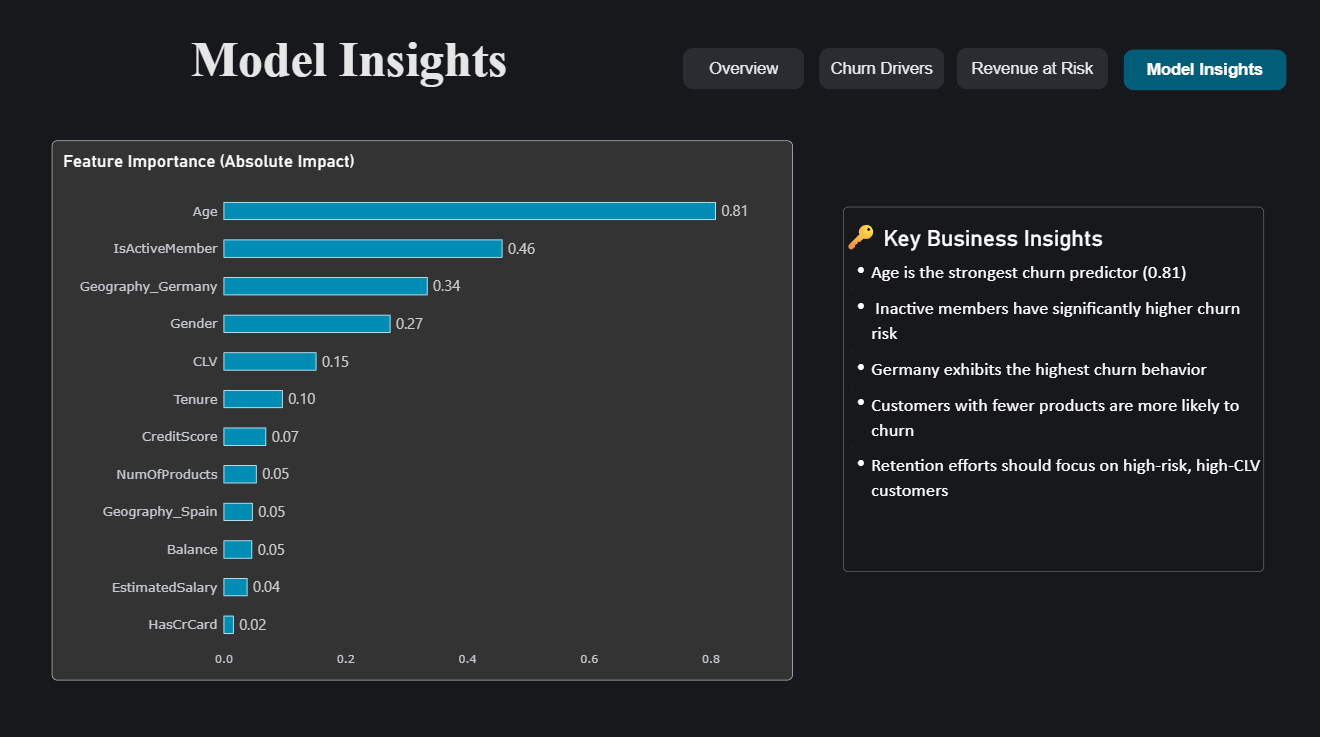

What the dashboard file says about the page in this screenshot:
{"tool":"powerbi","page":{"name":"Model Insights","canvas":[1920,1080],"ordinal":4},"visuals":[{"type":"shape","box":[1388,72.4,219,59.7],"z":0},{"type":"shape","box":[991.2,71.6,175.5,59.7],"z":1000},{"type":"textbox","box":[155.6,47.1,705.8,97.7],"z":2000},{"type":"shape","box":[1188.6,71.6,181,59.7],"z":3000},{"type":"clusteredBarChart","title":"Feature Importance (Absolute Impact)","fields":{"Category":["Feature_importance.Feature"],"Y":["Sum(Feature_importance.AbsCoefficient)"]},"box":[77.8,206.3,1073.1,781.8],"z":5000},{"type":"shape","box":[1626.9,74.2,240.7,59.7],"z":5001},{"type":"textbox","title":"🔑 Key Business Insights","box":[1223.3,302.2,609.9,528.4],"z":5002},{"type":"textbox","box":[6,0,150,150],"z":5003},{"type":"textbox","box":[1189,830,181,158],"z":5004}]}

Visuals, with their boxes in screenshot pixels (x1, y1, x2, y2), scaled from the page's 1920x1080 canvas onto the 1320x737 screenshot:
shape: select_region(954, 49, 1105, 90)
shape: select_region(681, 49, 802, 90)
textbox: select_region(107, 32, 592, 99)
shape: select_region(817, 49, 942, 90)
"Feature Importance (Absolute Impact)" clusteredBarChart: select_region(53, 141, 791, 674)
shape: select_region(1118, 51, 1284, 91)
"🔑 Key Business Insights" textbox: select_region(841, 206, 1260, 567)
textbox: select_region(4, 0, 107, 102)
textbox: select_region(817, 566, 942, 674)
